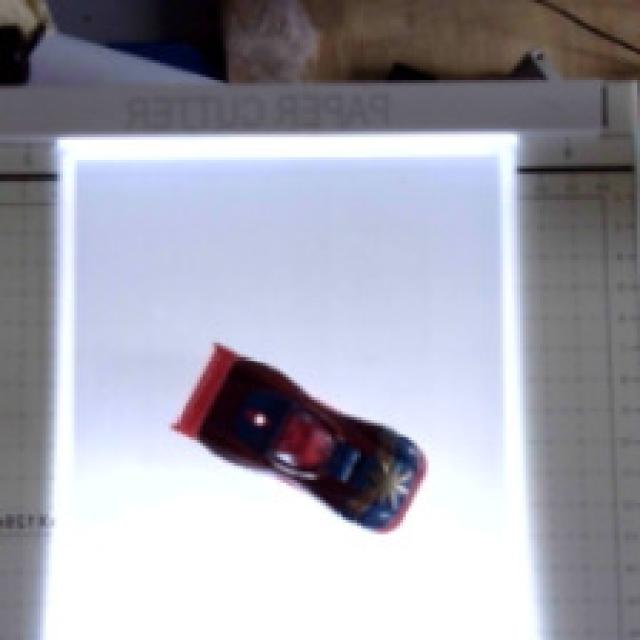Red Car: (141, 313, 477, 600)
